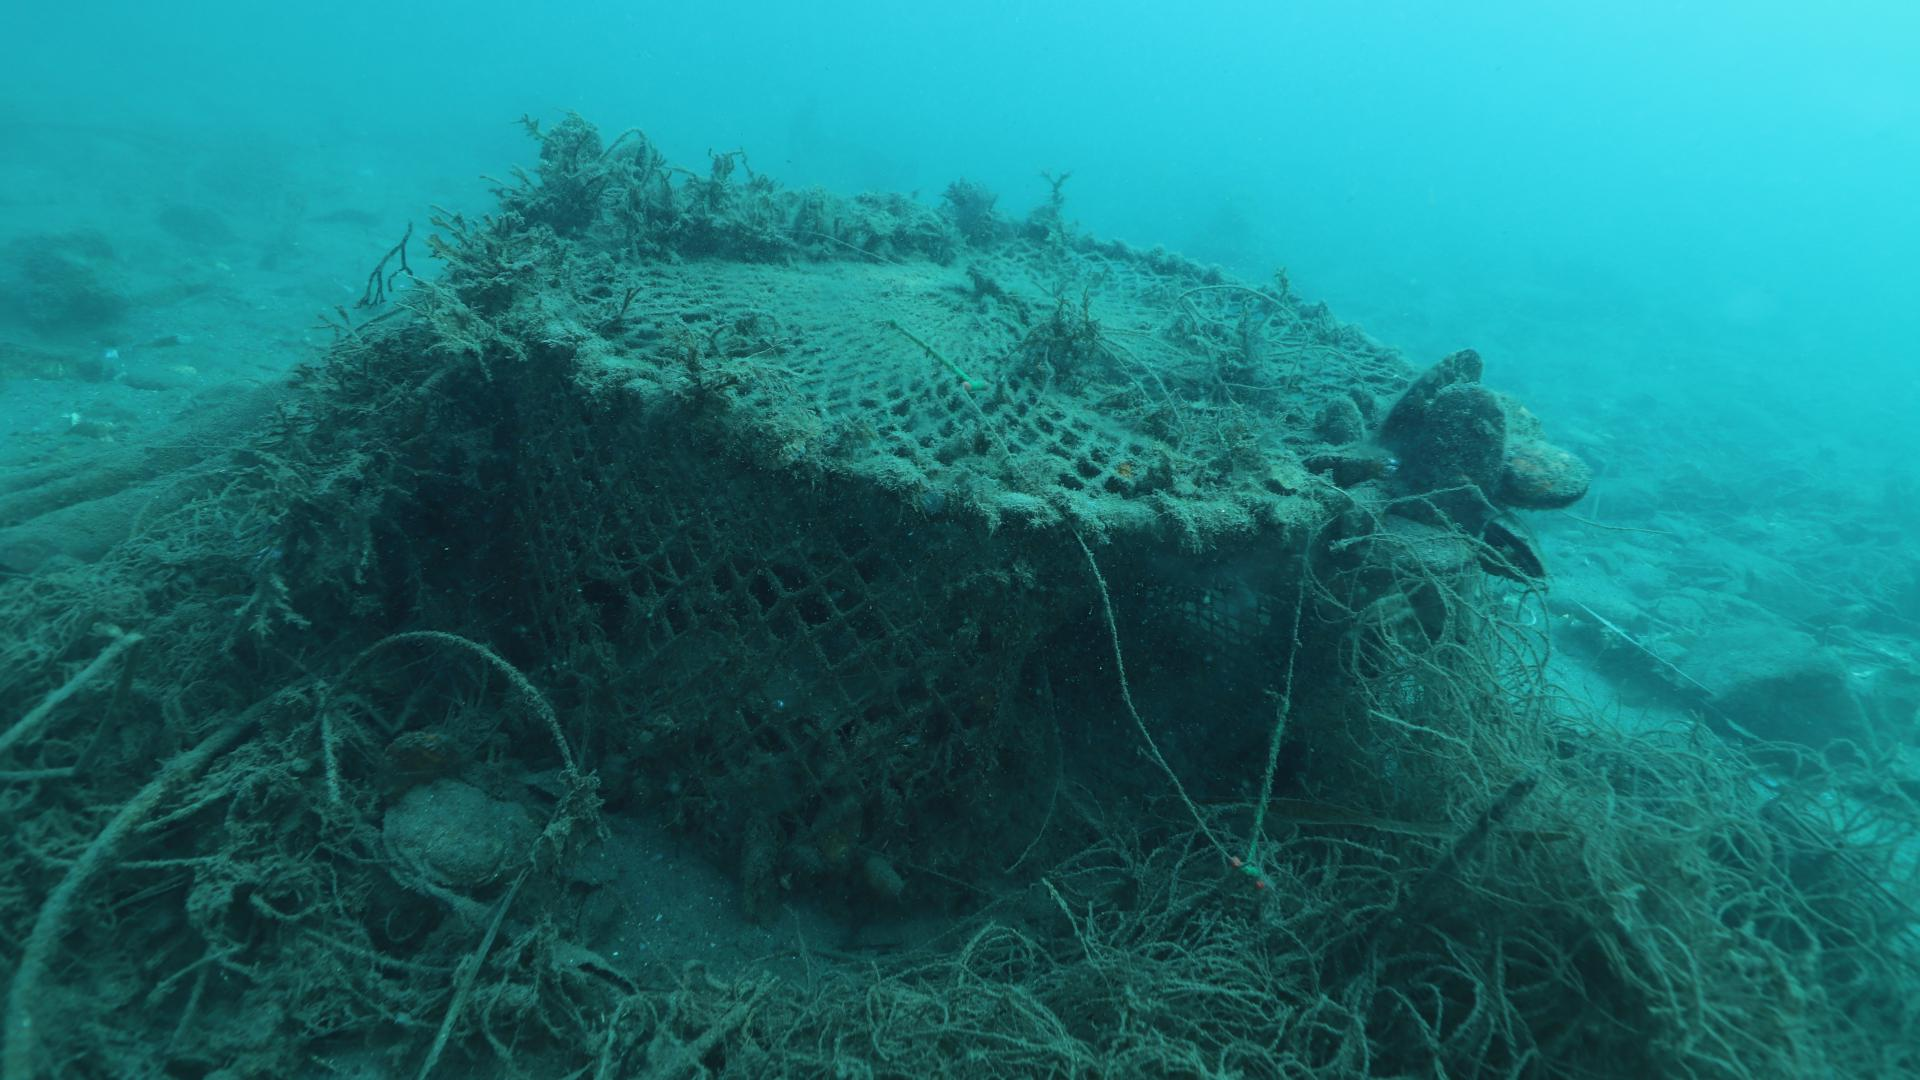circular fish trap: (498, 214, 1472, 930)
